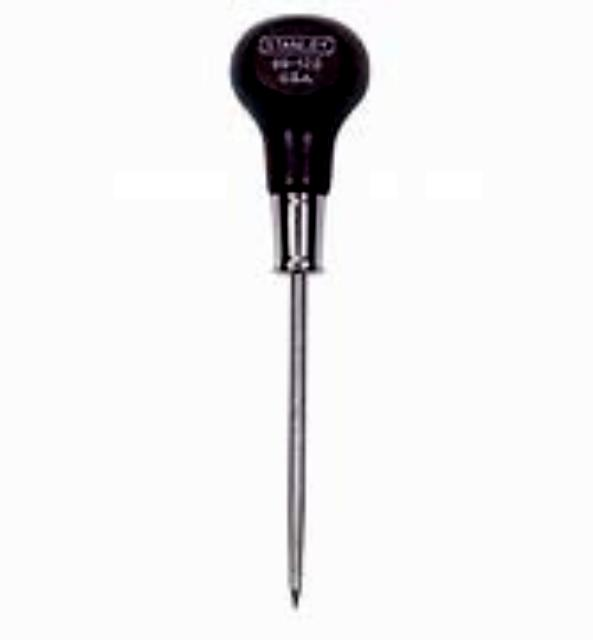ice pick: (228, 15, 380, 608)
